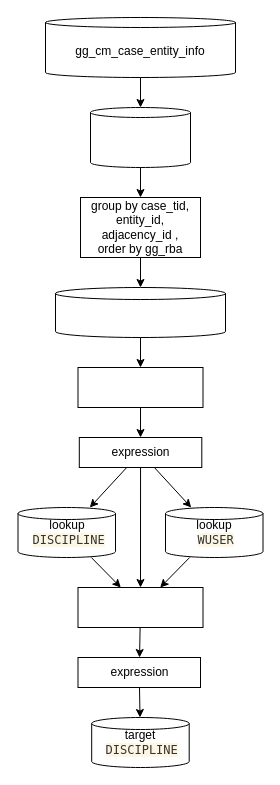
Some shapes in this 280 by 785 pixel diagram are drawn without their labels. The box of each missing label's shape, as (x1, y1, x2, y2) in pixels:
delta_sql: (90, 106, 190, 168)
filter discipline_id != null: (77, 366, 203, 408)
filter discipline_name != null: (77, 586, 203, 628)
lookup CM_CASES: (54, 286, 226, 338)
